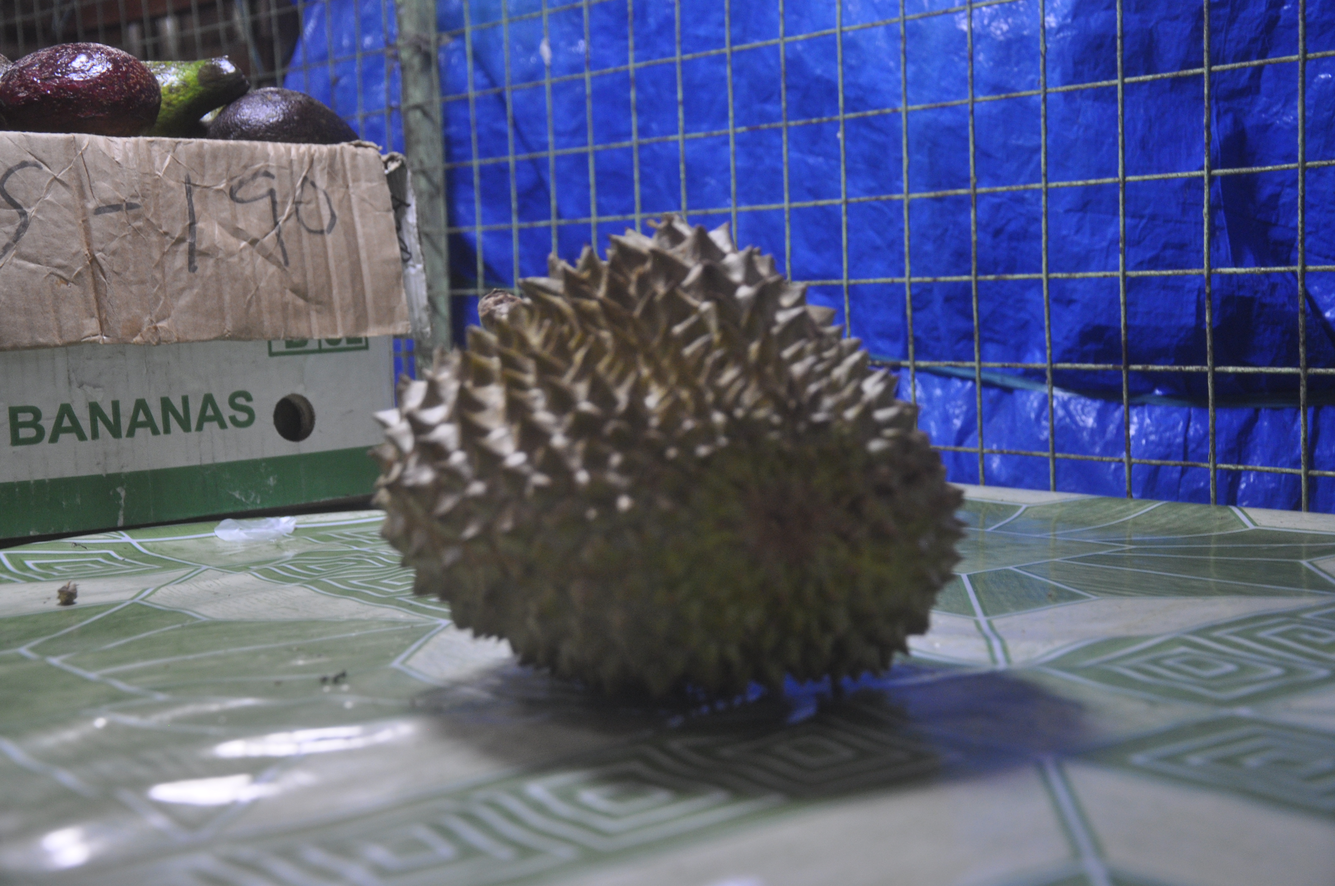mature: (299, 171, 1015, 790)
